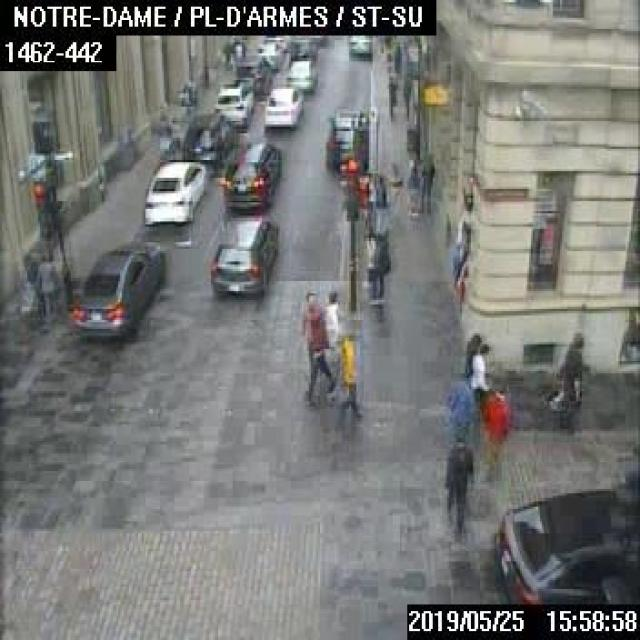pedestrian: (544, 331, 586, 433), (298, 291, 332, 398), (437, 431, 472, 534), (441, 371, 477, 465), (480, 385, 508, 488), (334, 330, 360, 425), (33, 246, 58, 316), (369, 225, 389, 304), (418, 156, 434, 214), (402, 158, 417, 218), (470, 343, 489, 389), (464, 332, 479, 375), (386, 72, 396, 118), (400, 71, 410, 117)
vehicle: (484, 484, 638, 602), (67, 240, 164, 340), (208, 214, 277, 298), (142, 159, 209, 225), (221, 141, 279, 209), (180, 115, 233, 173), (215, 80, 255, 131), (322, 124, 364, 171), (262, 85, 301, 129), (233, 54, 271, 93), (285, 56, 319, 93), (327, 104, 367, 130), (256, 38, 286, 68), (342, 34, 373, 53)
